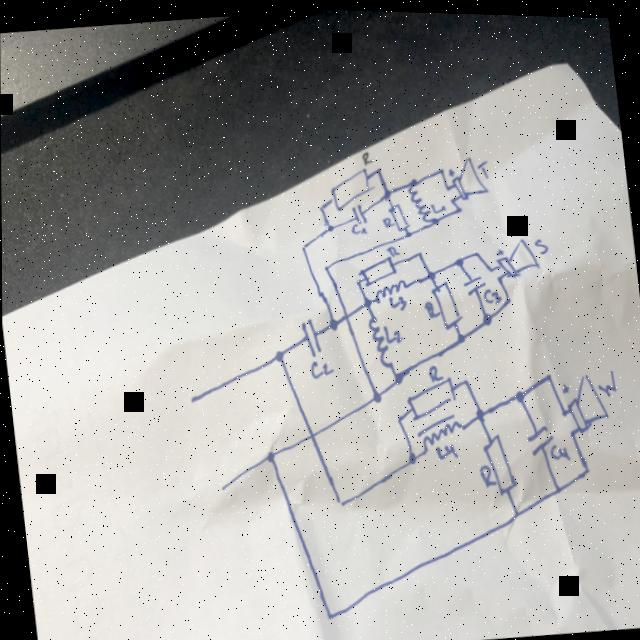capacitor: (522, 419, 554, 454), (299, 313, 321, 357), (460, 270, 485, 293), (349, 200, 366, 222)
crossover: (305, 426, 315, 439), (340, 306, 349, 320)
inductor: (412, 407, 466, 451), (405, 172, 438, 224), (365, 310, 394, 367), (371, 274, 409, 300)
junction: (470, 401, 483, 419), (404, 446, 417, 463), (511, 384, 524, 401), (325, 314, 337, 331), (452, 325, 464, 342), (479, 306, 491, 323), (390, 366, 402, 383), (369, 384, 381, 401), (262, 446, 275, 461), (271, 346, 283, 362), (393, 410, 404, 424), (458, 372, 469, 386), (333, 493, 344, 506), (323, 605, 333, 619), (424, 264, 434, 278), (361, 293, 371, 306), (381, 184, 390, 198), (557, 401, 566, 415), (582, 458, 591, 472), (542, 368, 551, 381), (566, 424, 575, 437), (552, 479, 561, 492), (509, 503, 518, 516), (501, 289, 510, 302), (453, 252, 462, 265), (324, 220, 333, 231), (372, 163, 381, 174), (403, 225, 411, 236), (315, 201, 324, 210), (298, 240, 306, 250), (413, 246, 421, 256), (353, 273, 361, 283), (435, 162, 443, 172), (471, 244, 478, 255), (486, 261, 494, 270), (408, 173, 416, 182), (430, 212, 437, 222), (442, 180, 450, 188), (454, 201, 461, 210), (447, 192, 454, 201), (494, 271, 501, 280), (321, 261, 328, 269)
resistor: (402, 371, 457, 420), (479, 427, 517, 493), (327, 162, 373, 209), (428, 275, 462, 328), (356, 250, 397, 285), (385, 198, 409, 229)
terminal: (187, 391, 198, 403), (217, 477, 227, 490)
text: (593, 363, 616, 393), (546, 437, 571, 461), (474, 459, 496, 485), (432, 438, 458, 460), (307, 356, 333, 377), (380, 319, 402, 342), (385, 289, 407, 310), (425, 359, 445, 381), (480, 282, 502, 302), (422, 294, 440, 317), (475, 155, 490, 177), (531, 231, 548, 250), (348, 218, 367, 234), (358, 147, 372, 164), (429, 197, 446, 210), (384, 241, 399, 255), (379, 212, 394, 225)
